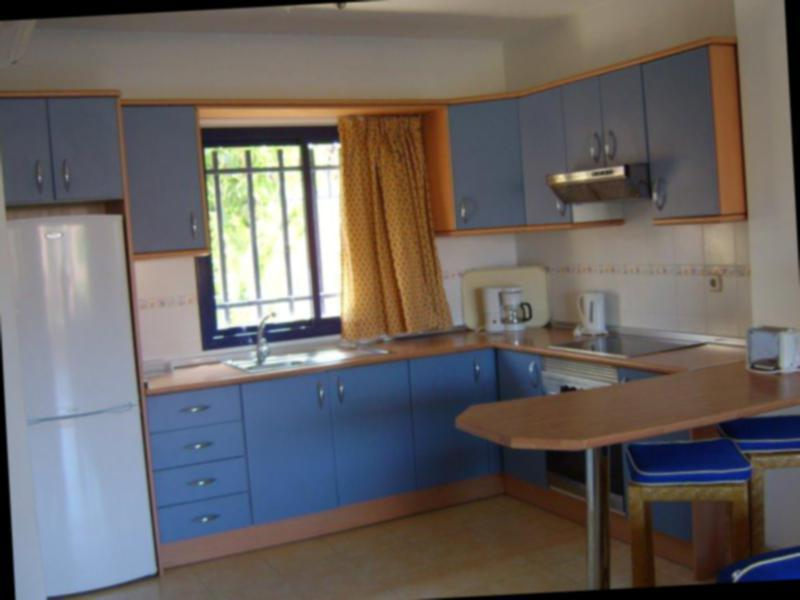Electrodomestico: (4, 211, 155, 591)
Lavaplatos: (226, 295, 406, 394)
